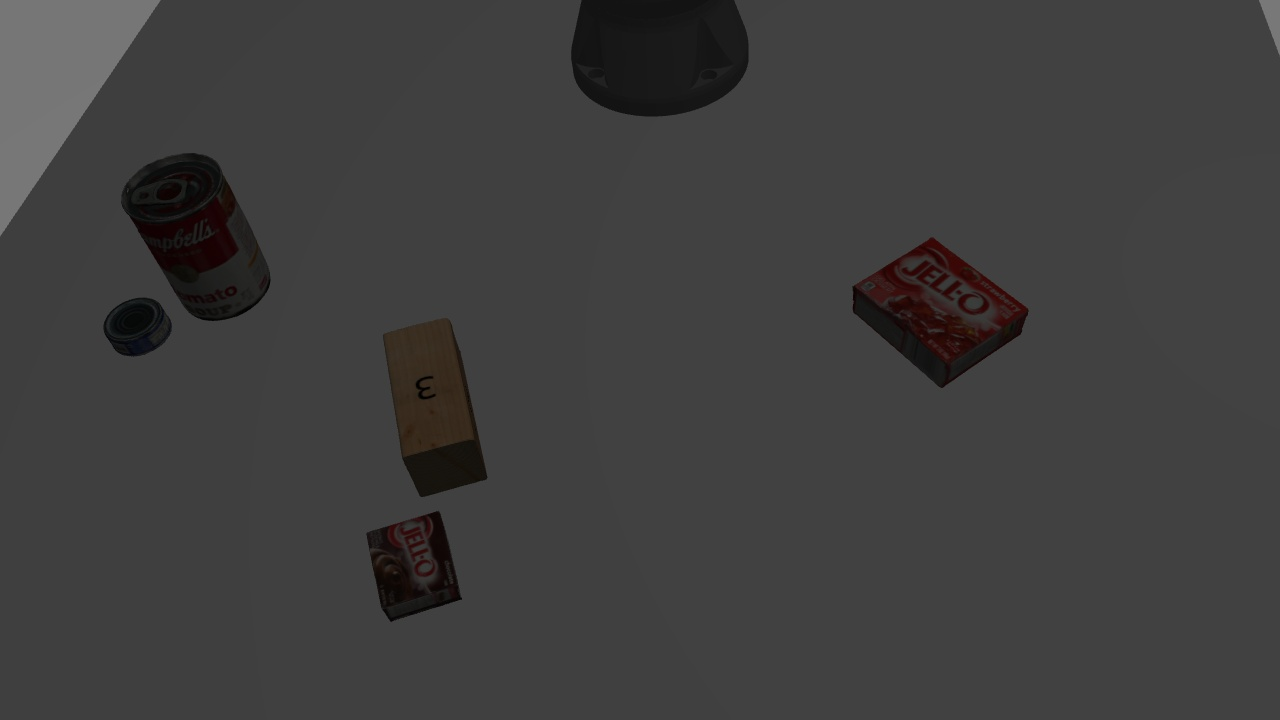gelatin_box: (844, 237, 1034, 391)
pudding_box: (363, 512, 469, 621)
tomato_soup_can: (117, 152, 281, 325)
tuna_fish_can: (112, 294, 172, 359)
wood_block: (372, 315, 495, 500)
